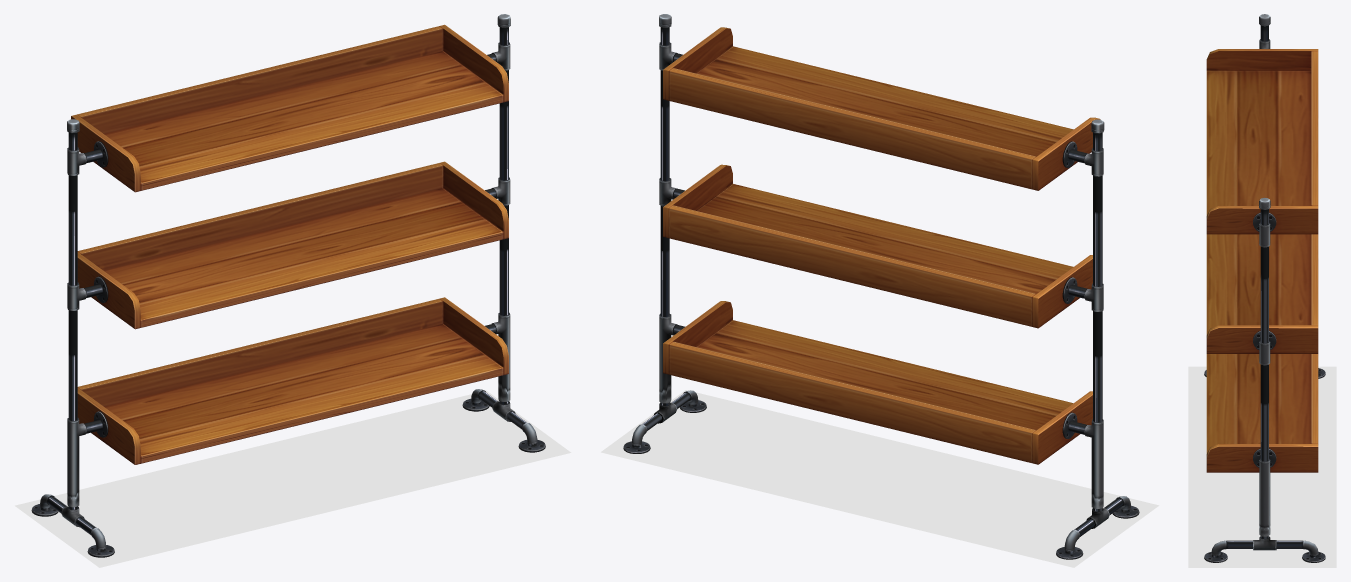
File: shoerack_003.FBX
The picture shows the model from 3 angles, left to right: view 1: azimuth 30°, elevation 25°; view 2: azimuth 150°, elevation 25°; view 3: azimuth 270°, elevation 25°; orthographic projection. The views are drawn at different scales.
Visible parts, largest first — view 1: shoerack_003_01, shoerack_003_shadow; view 2: shoerack_003_01, shoerack_003_shadow; view 3: shoerack_003_01, shoerack_003_shadow.
Part boxes in pixels (x1,y1,x2,y2): shoerack_003_01: (31, 14, 545, 557); shoerack_003_shadow: (15, 390, 571, 567); shoerack_003_01: (623, 14, 1139, 559); shoerack_003_shadow: (601, 390, 1159, 567); shoerack_003_01: (1204, 14, 1325, 562); shoerack_003_shadow: (1188, 366, 1336, 567).
Bounding box in the file's own units: 3064 × 2545 × 957.
